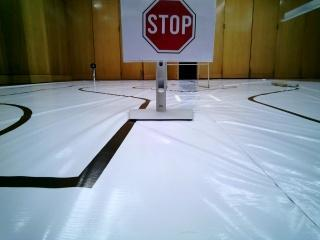stop: (122, 2, 208, 63)
